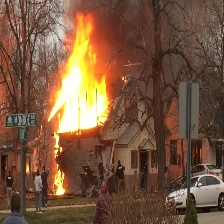fire: (47, 12, 110, 135), (46, 133, 68, 197)
